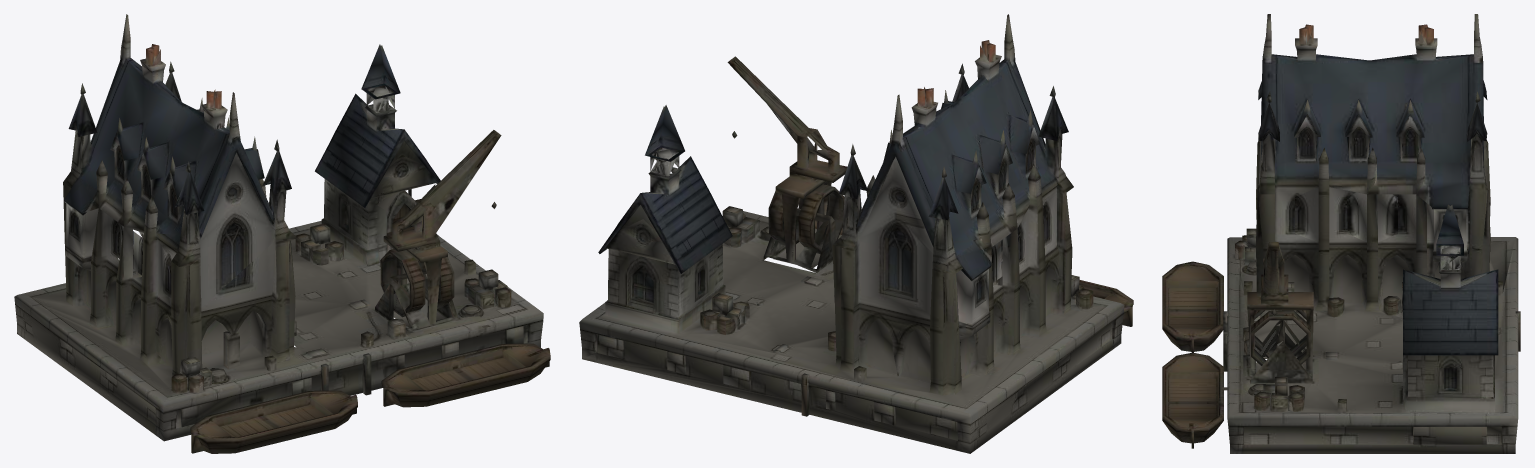
The model's file is docks.glb.
3 renders of one model, left to right at view 1: azimuth 30°, elevation 25°; view 2: azimuth 150°, elevation 25°; view 3: azimuth 270°, elevation 25°, orthographic. The views are drawn at different scales.
Visible parts, largest first — view 1: tripo_node_89fd65b9-f3af-45f1-95a3-2fc10; view 2: tripo_node_89fd65b9-f3af-45f1-95a3-2fc10; view 3: tripo_node_89fd65b9-f3af-45f1-95a3-2fc10.
Part boxes in pixels (box(x1,y1,x2,y2)): tripo_node_89fd65b9-f3af-45f1-95a3-2fc10: box(14, 14, 550, 453); tripo_node_89fd65b9-f3af-45f1-95a3-2fc10: box(579, 14, 1133, 453); tripo_node_89fd65b9-f3af-45f1-95a3-2fc10: box(1162, 14, 1520, 453).
Bounding box in the file's own units: 30.58 × 24 × 25.68.
Materials: 1 (1 with a texture image).
